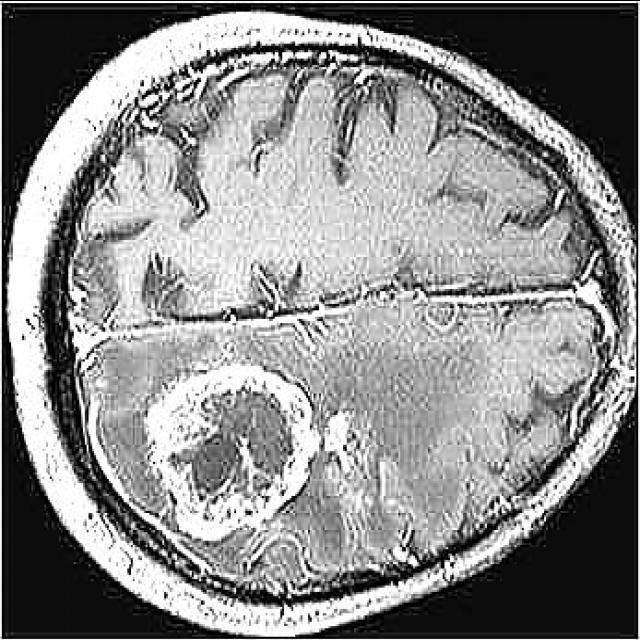tumor: (144, 363, 323, 540)
